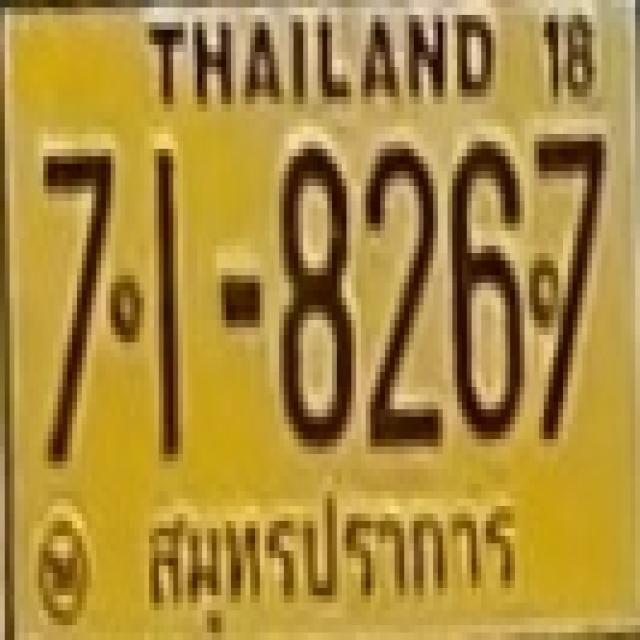2: (361, 138, 433, 442), (361, 137, 433, 420)
6: (448, 134, 520, 432)
7: (530, 127, 602, 439), (38, 149, 110, 461), (38, 149, 110, 409), (38, 149, 110, 350)
8: (274, 141, 352, 439)
SPK: (128, 481, 525, 640)
